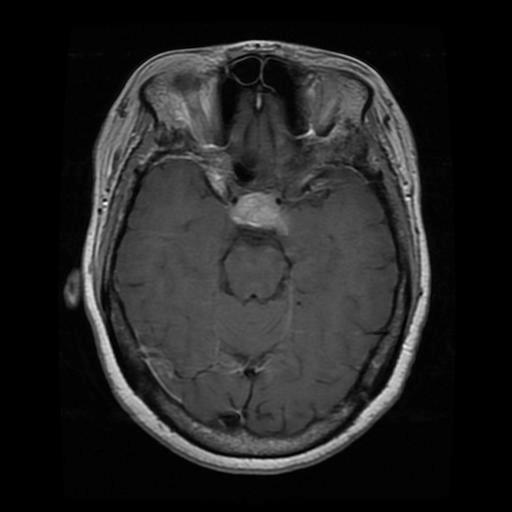Tumour-Pituitary: (228, 192, 289, 235)
